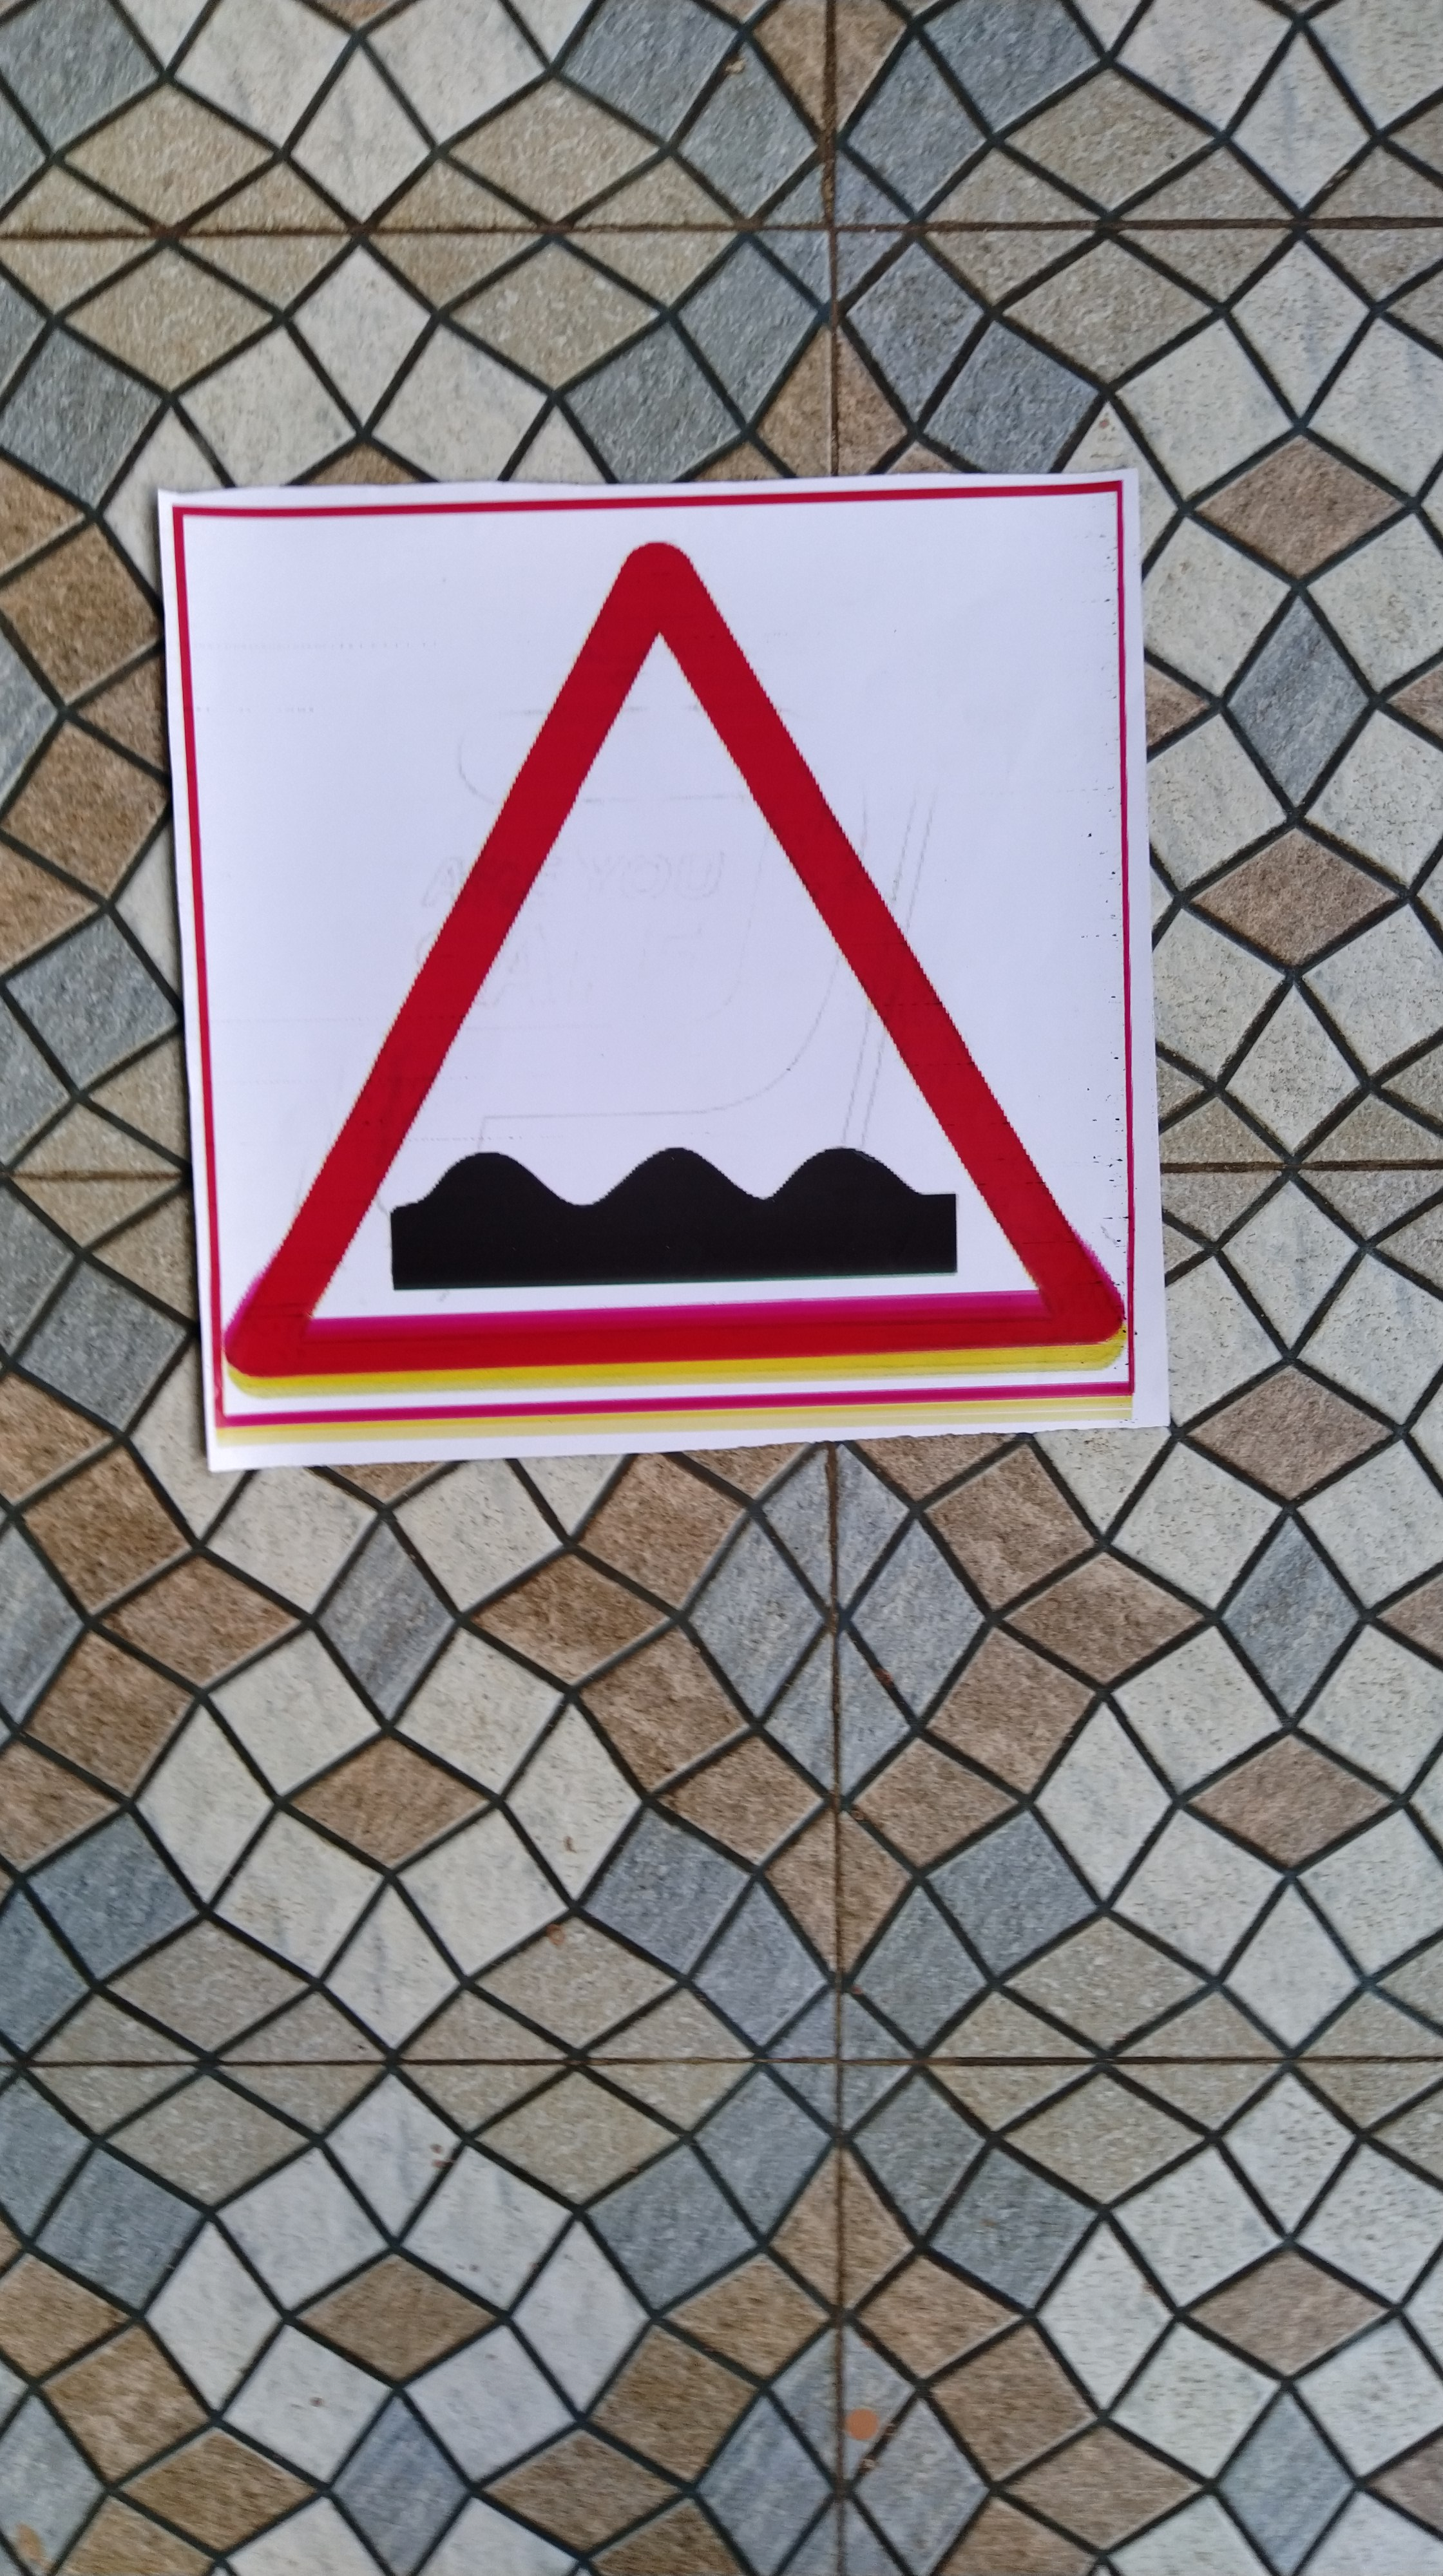speed breaker: (163, 513, 1161, 1428)
